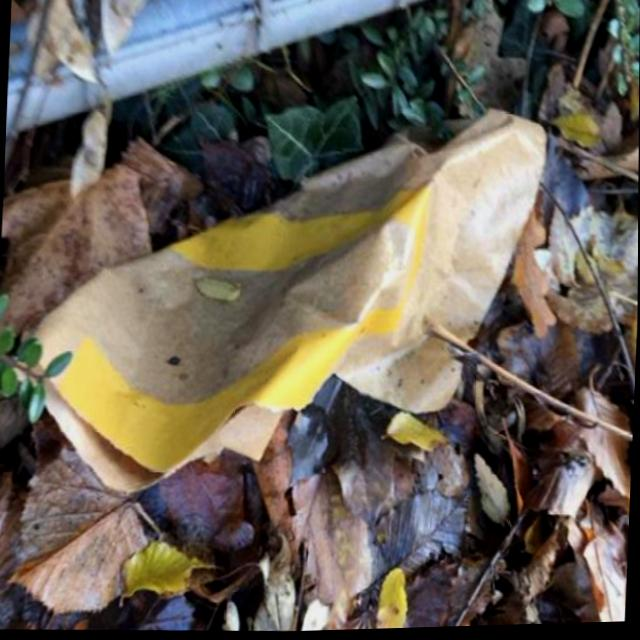Paper: (0, 87, 551, 522)
